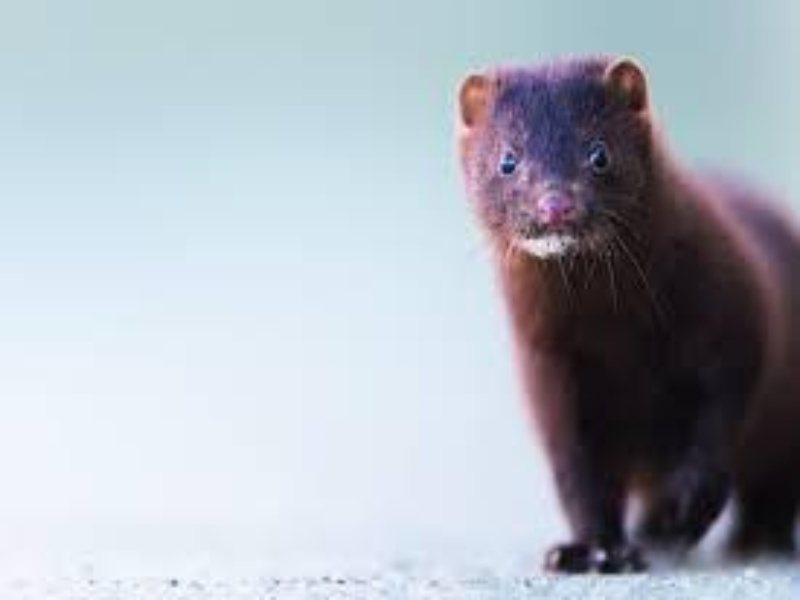minkish: (450, 56, 798, 574)
